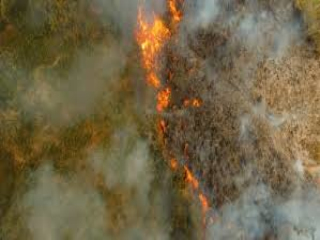fire: (128, 14, 188, 137), (168, 149, 216, 223)
